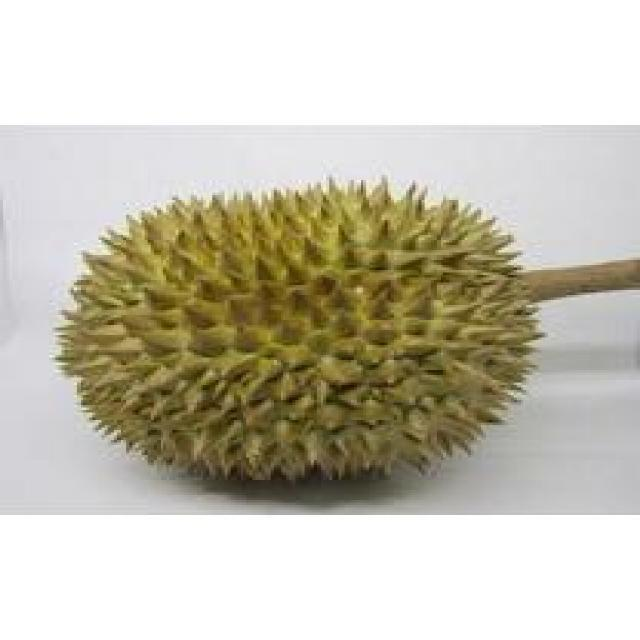fruit: (21, 148, 357, 508), (250, 148, 572, 510)
